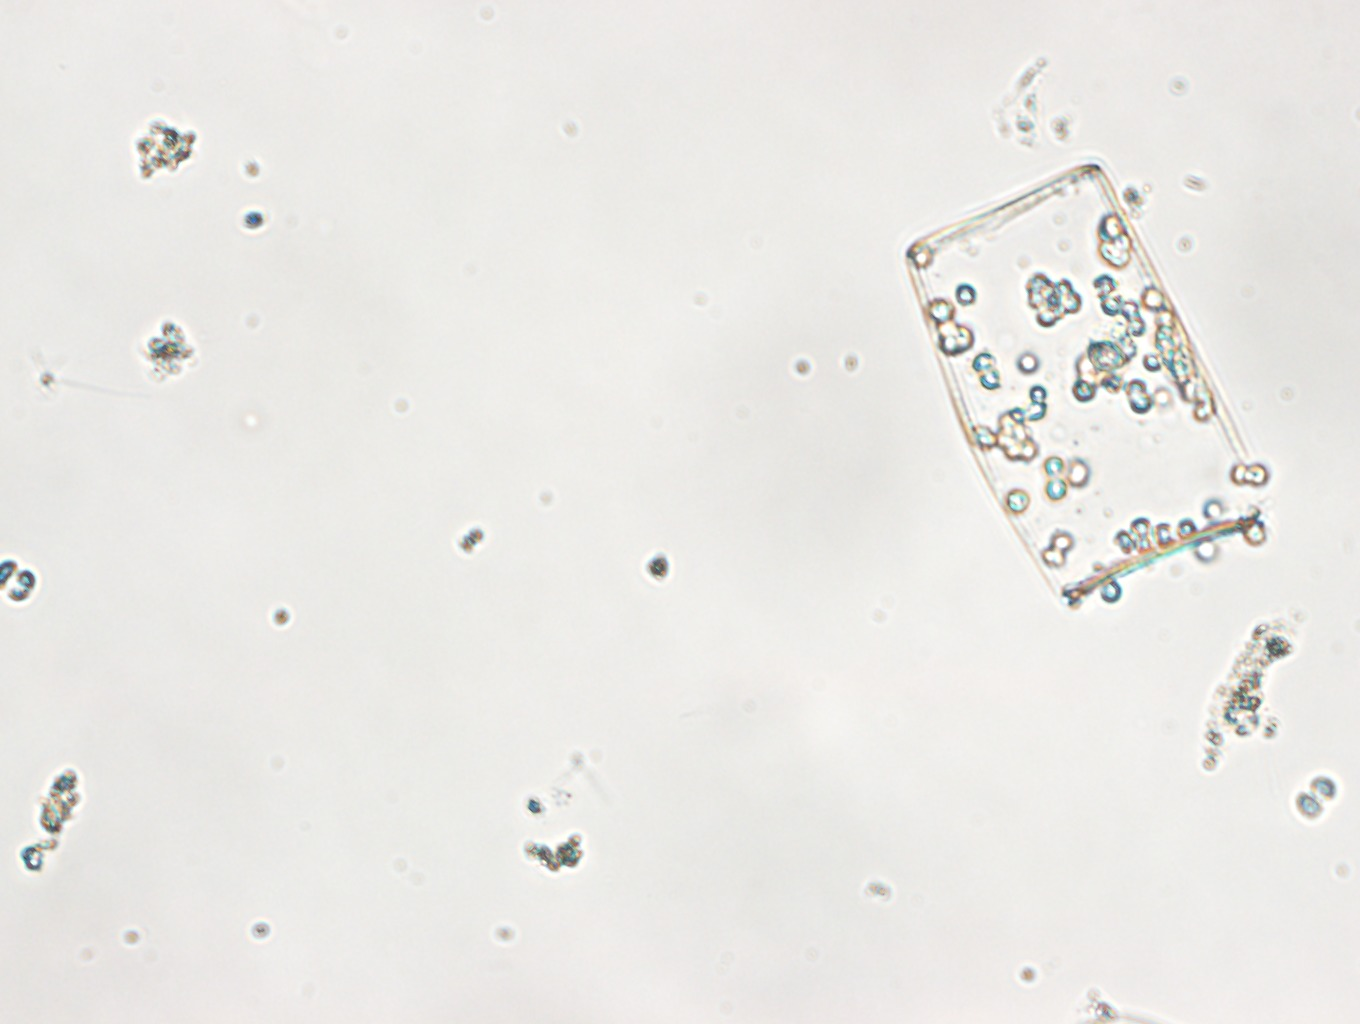guinardia flaccida: (908, 165, 1290, 605)
